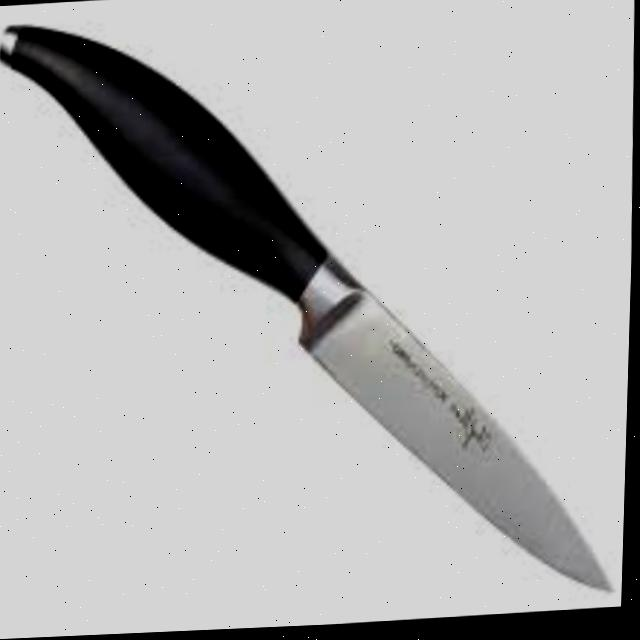Knife: (0, 0, 634, 630)
